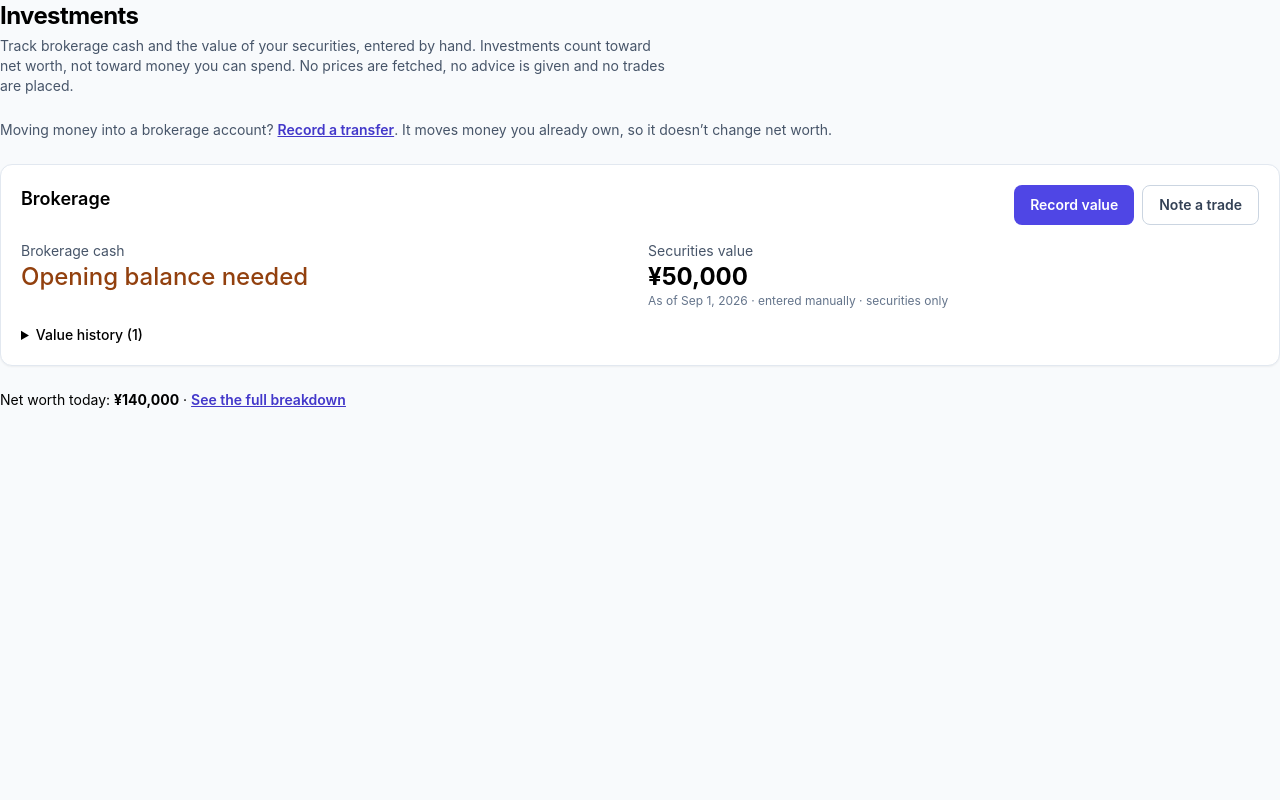
Test: investments › records a manual securities-only value and explains a same-date conflict
Expected: the text "¥50,000" is shown, x1=648 y1=262 x2=748 y2=291
Expected: the text "As of Sep 1, 2026 · entered manually · securities only" is shown, x1=648 y1=293 x2=948 y2=308
Click the button named "Record value for Brokerage" at point(1074, 205), box x1=1014 y1=185 x2=1134 y2=225
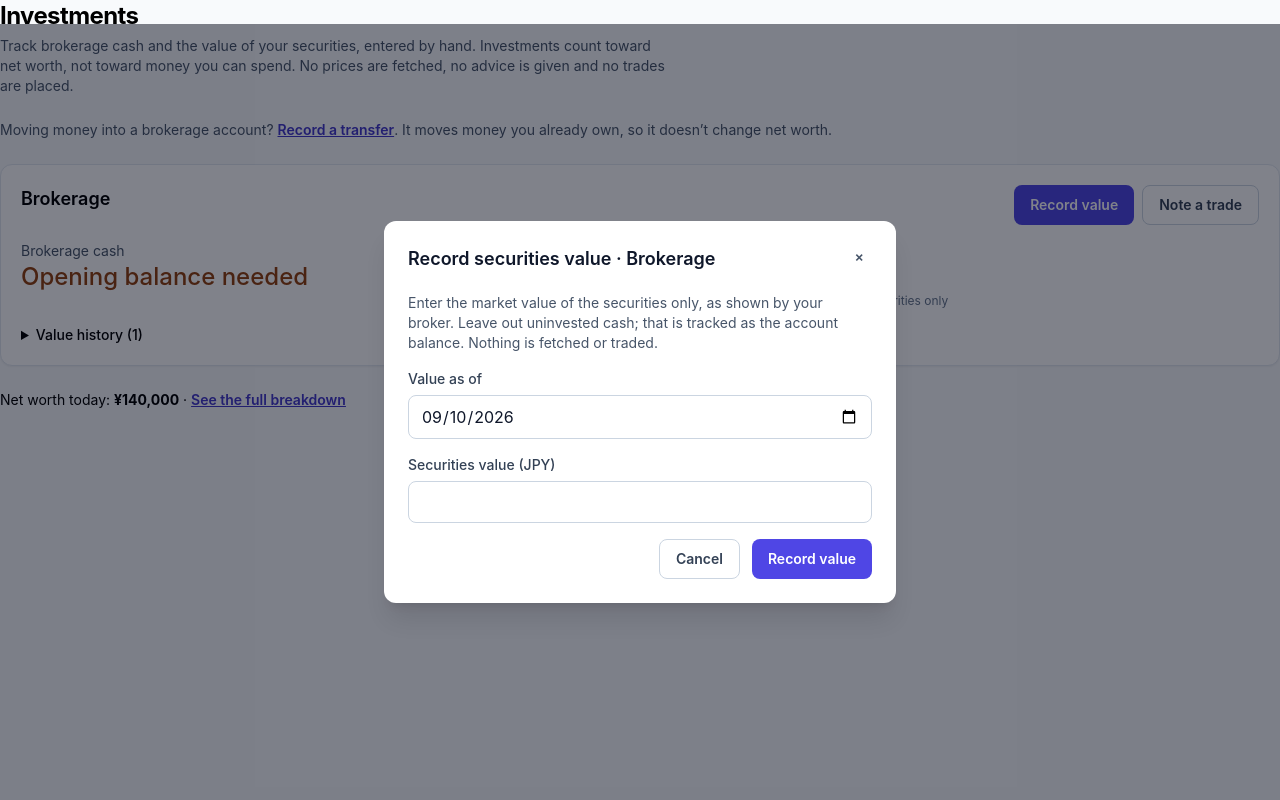
Result: the text "Leave out uninvested cash" is shown at x1=408 y1=294 x2=838 y2=351
Type "2026-09-01" into the date field labelled "Value as of" at point(640, 417), box x1=408 y1=395 x2=872 y2=439
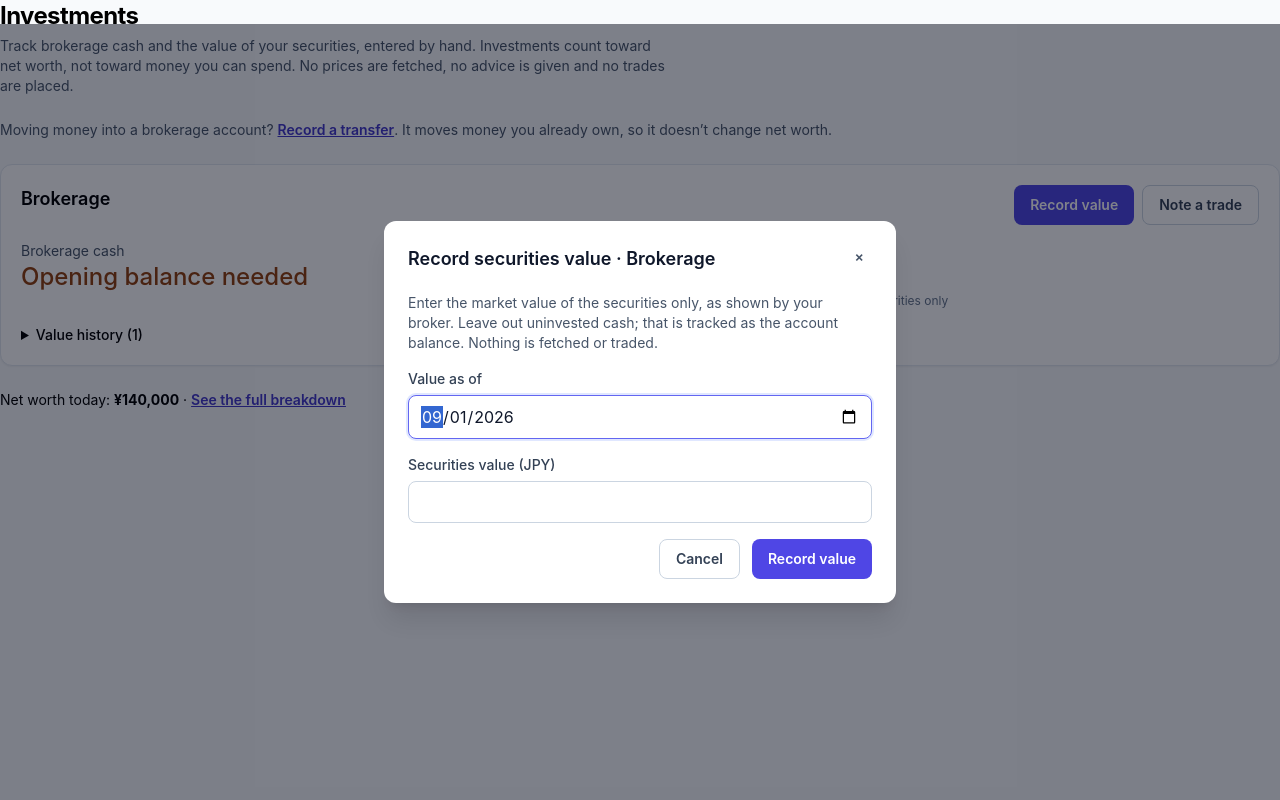
Type "52000" into the field labelled "Securities value (JPY)" at point(640, 502), box x1=408 y1=481 x2=872 y2=523
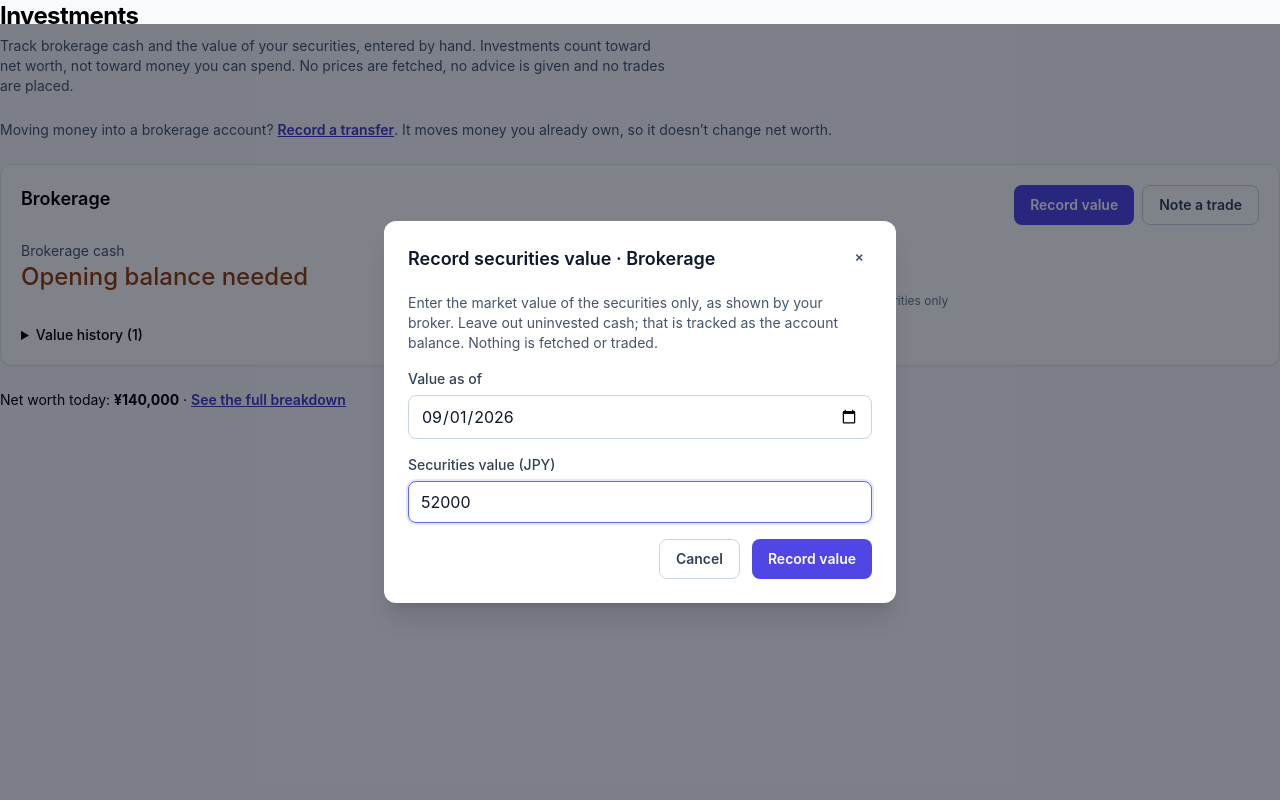
Click the button "Record value" at point(812, 559), box x1=752 y1=539 x2=872 y2=579
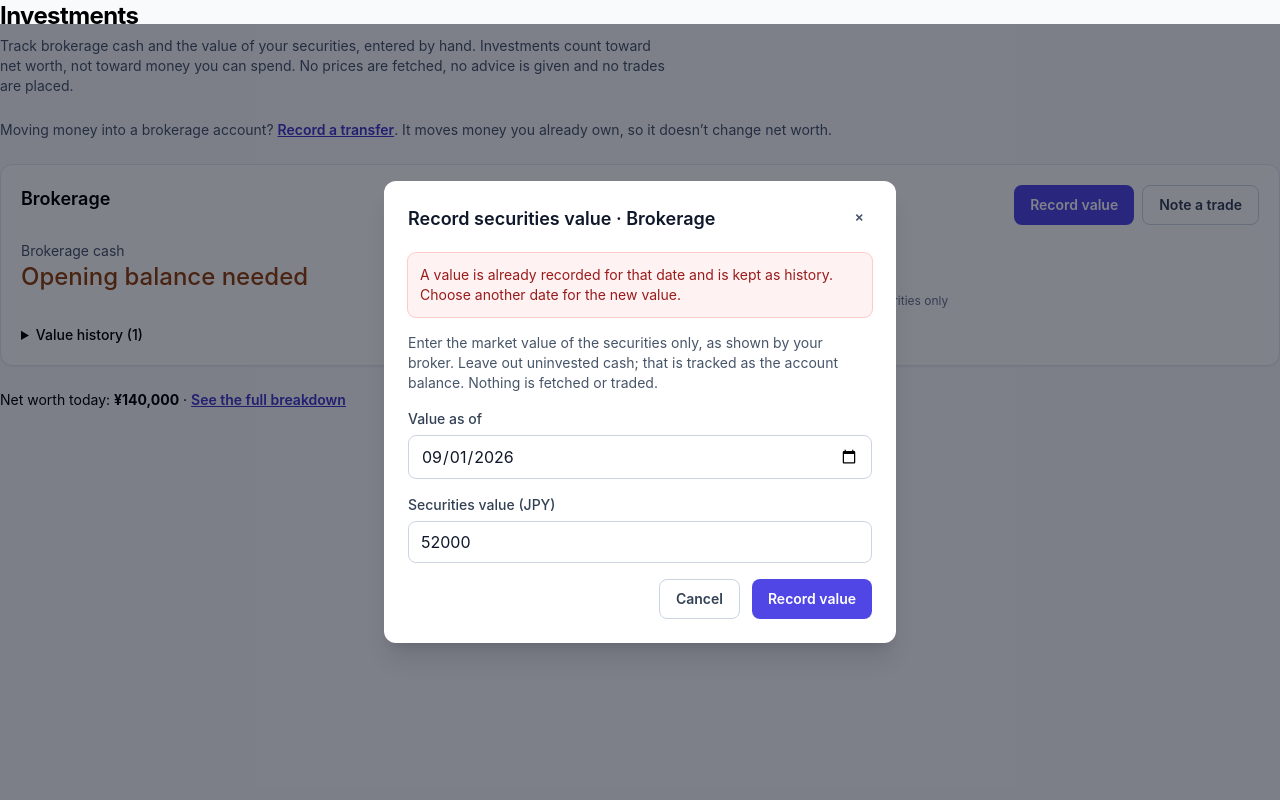
Result: the message shows "already recorded for that date and is kept as history" at x1=420 y1=266 x2=833 y2=303
Type "2026-09-10" into the date field labelled "Value as of" at point(640, 457), box x1=408 y1=435 x2=872 y2=479
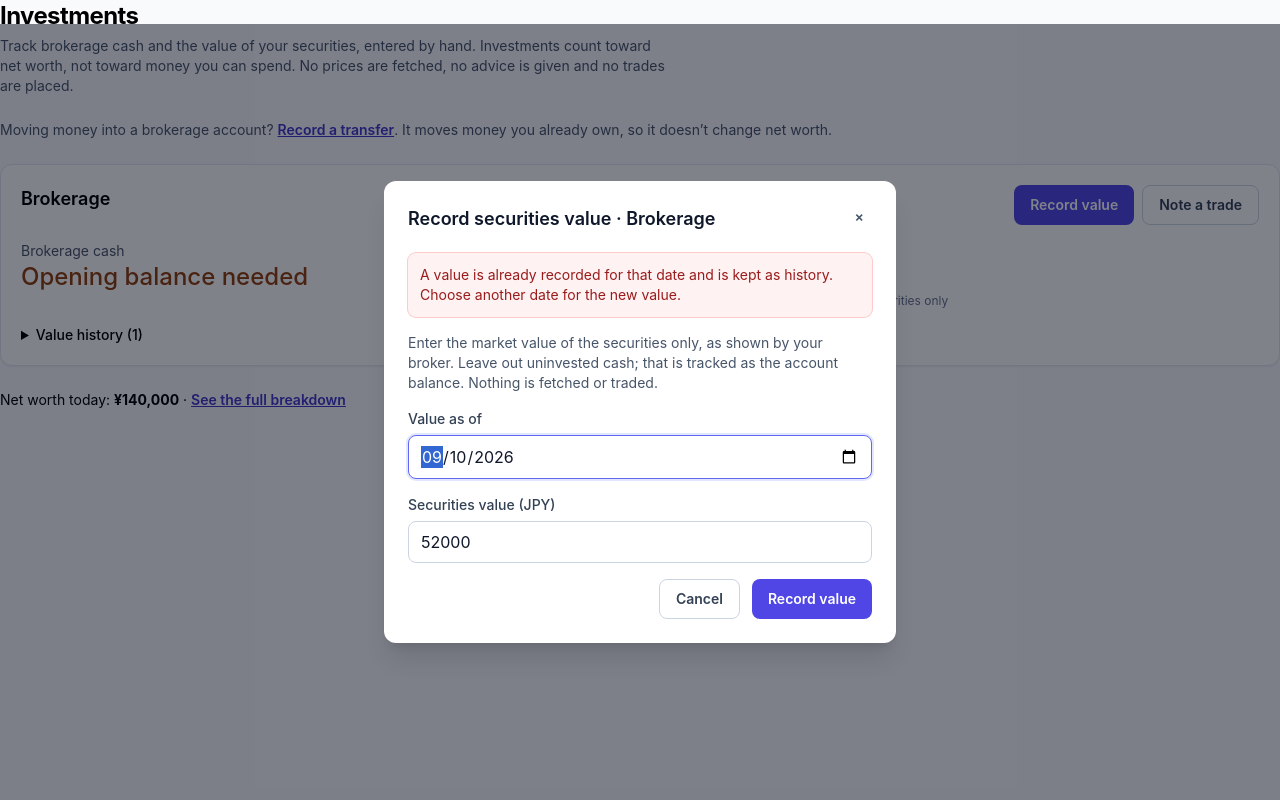
Click the button "Record value" at point(812, 599), box x1=752 y1=579 x2=872 y2=619
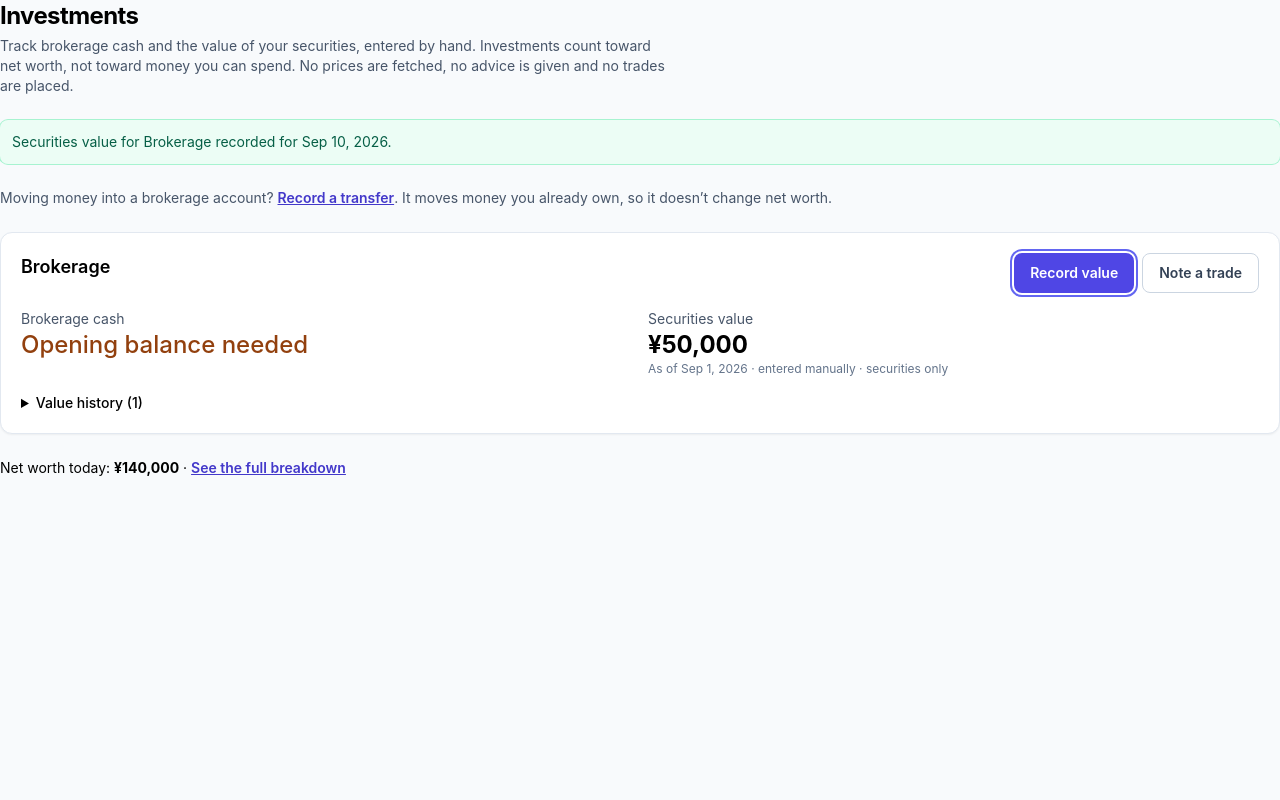
Result: the text "Securities value for Brokerage recorded for Sep 10, 2026." is shown at x1=0 y1=120 x2=1279 y2=164
